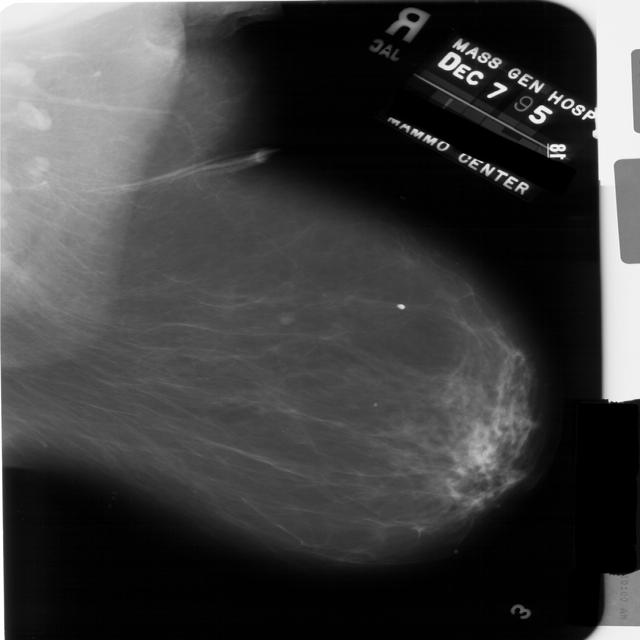tumour: (276, 312, 294, 324)
